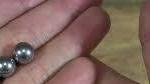ironball: (12, 42, 38, 62), (0, 54, 16, 77)
